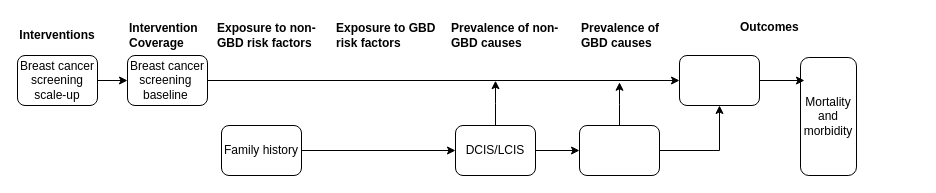
The diagram is 936 pixels wide and 193 high, and some of its shapes have lost their labels. The shapes that lost their labels are listed below. From the top down, each one's centre as x and y in pixels, then its label:
(x=719, y=80): Breast cancer detection
(x=619, y=150): Breast cancer stage 1+
